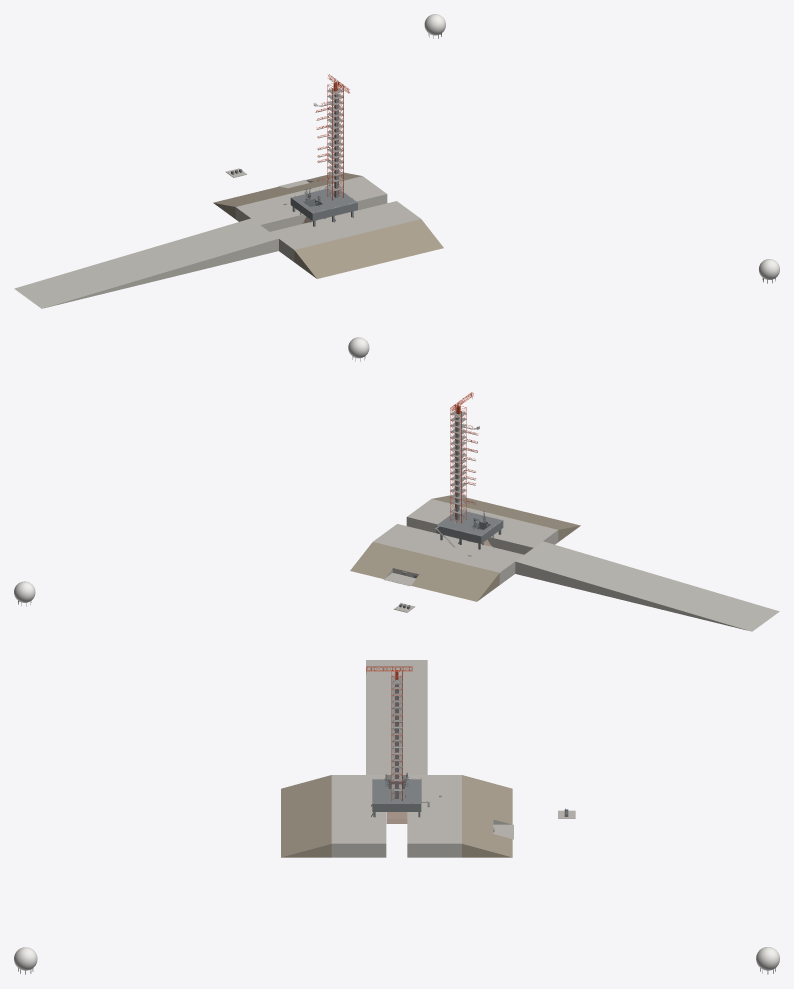
File: pad-a-1972-04.glb
3 renders of one model, top to bottom at view 1: azimuth 30°, elevation 25°; view 2: azimuth 150°, elevation 25°; view 3: azimuth 270°, elevation 25°, orthographic. The views are drawn at different scales.
Visible parts, largest first — view 1: Hardstand_Concrete, Hardstand_Earth, Launcher_Base_Steel, Umbilical_Tower_Deck, Umbilical_Tower_Red, Storage_Spheres_White; view 2: Hardstand_Concrete, Hardstand_Earth, Launcher_Base_Steel, Umbilical_Tower_Deck, Umbilical_Tower_Red, Storage_Spheres_White; view 3: Hardstand_Concrete, Hardstand_Earth, Launcher_Base_Steel, Umbilical_Tower_Deck, Storage_Spheres_White, Umbilical_Tower_Red.
Boxes of the visible parts, x1,y1,x2,y2 form: Hardstand_Concrete: [14, 176, 420, 308]; Hardstand_Earth: [213, 172, 443, 278]; Launcher_Base_Steel: [290, 189, 357, 220]; Umbilical_Tower_Deck: [327, 87, 343, 191]; Umbilical_Tower_Red: [327, 82, 343, 200]; Storage_Spheres_White: [424, 14, 779, 279]; Hardstand_Concrete: [373, 499, 779, 631]; Hardstand_Earth: [350, 495, 580, 601]; Launcher_Base_Steel: [436, 511, 503, 543]; Umbilical_Tower_Deck: [450, 410, 466, 514]; Umbilical_Tower_Red: [450, 405, 466, 523]; Storage_Spheres_White: [14, 337, 369, 602]; Hardstand_Concrete: [331, 660, 512, 857]; Hardstand_Earth: [281, 775, 512, 857]; Launcher_Base_Steel: [372, 779, 421, 811]; Umbilical_Tower_Deck: [391, 676, 402, 790]; Storage_Spheres_White: [14, 947, 779, 970]; Umbilical_Tower_Red: [391, 670, 402, 800].
Bounding box in the file's own units: 630 × 149 × 645.
